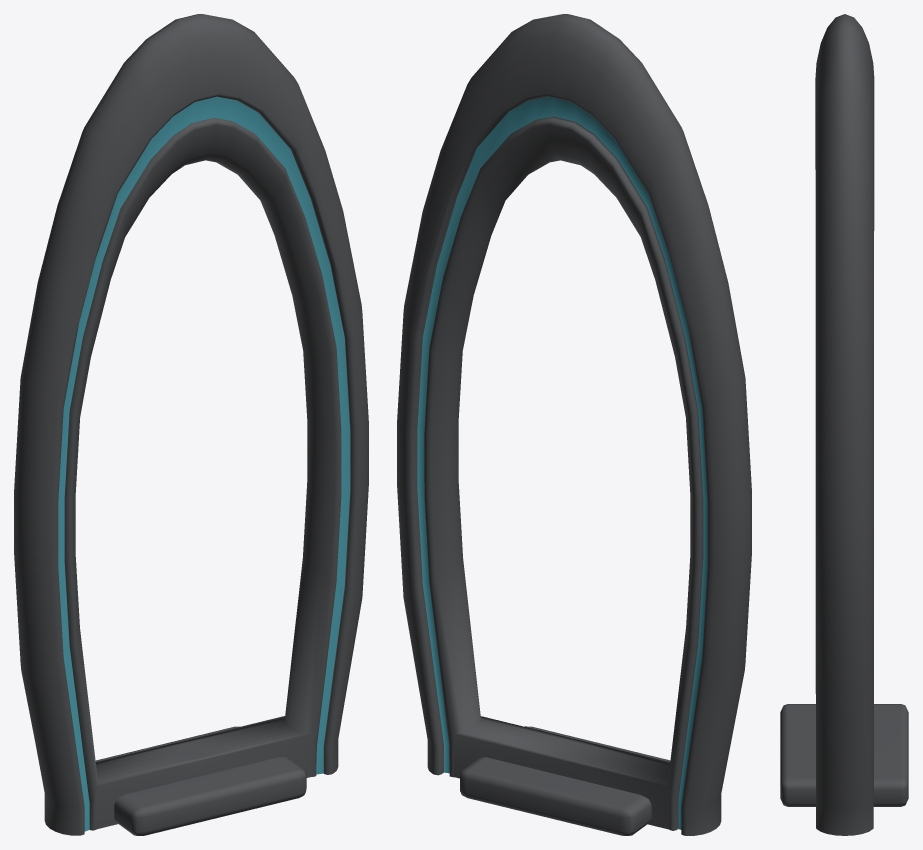
The model's file is Portal 1.fbx.
3 renders of one model, left to right at view 1: azimuth 30°, elevation 25°; view 2: azimuth 150°, elevation 25°; view 3: azimuth 270°, elevation 25°, orthographic. The views are drawn at different scales.
Visible parts, largest first — view 1: pCube2; view 2: pCube2; view 3: pCube2.
Part boxes in pixels (x1,y1,x2,y2): pCube2: (14, 14, 368, 835); pCube2: (397, 14, 751, 835); pCube2: (780, 14, 908, 835).
Bounding box in the file's own units: 241 × 517 × 80.26.
